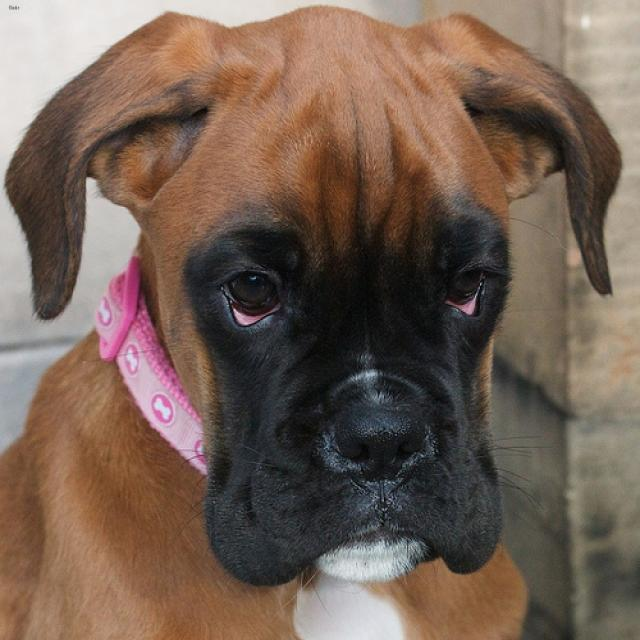dog-boxer: (1, 1, 637, 637)
